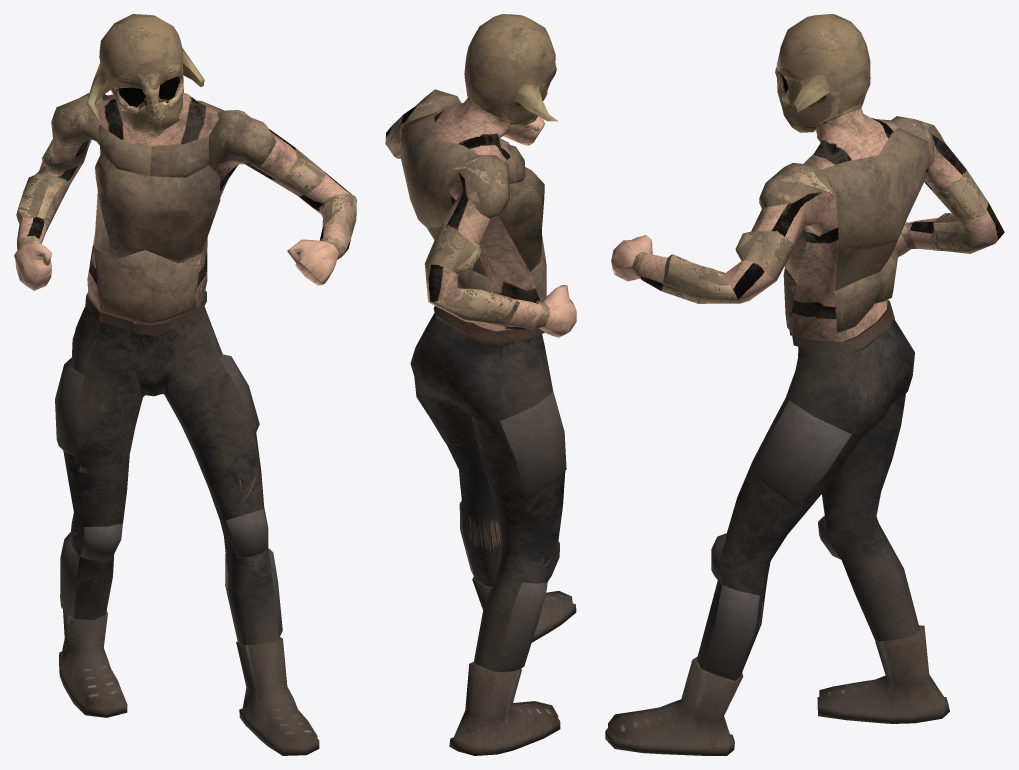
The model's file is Anim_ataque_d2_npc1.0016.obj.
3 renders of one model, left to right at view 1: azimuth 30°, elevation 25°; view 2: azimuth 150°, elevation 25°; view 3: azimuth 270°, elevation 25°, orthographic. The views are drawn at different scales.
Visible parts, largest first — view 1: NPC2; view 2: NPC2; view 3: NPC2.
Part boxes in pixels (left/top/right/bottom): NPC2: left=14, top=14, right=356, bottom=755; NPC2: left=385, top=14, right=576, bottom=755; NPC2: left=605, top=14, right=1004, bottom=755.
Bounding box in the file's own units: 3.68 × 9.37 × 4.8.
